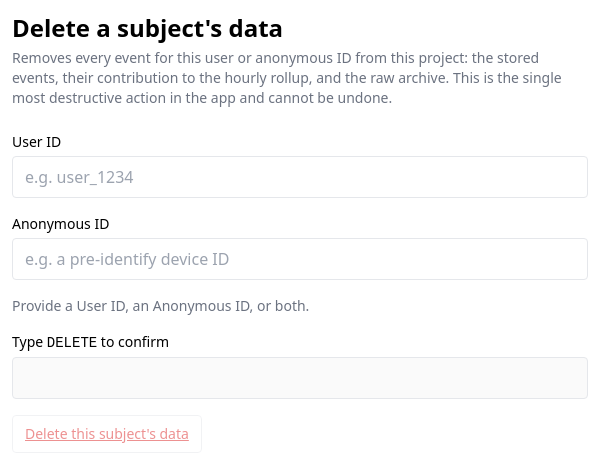
Test: SubjectDeletion › an anonymous ID alone is also a valid identifier
Type "anon-1" into the field labelled "Anonymous ID" at (300, 259), box [12,238,588,280]
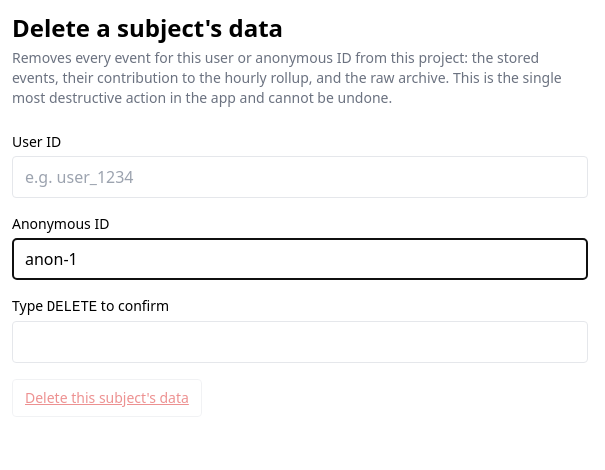
Type "DELETE" into the field labelled "Type DELETE to confirm" at (300, 342), box [12,321,588,363]
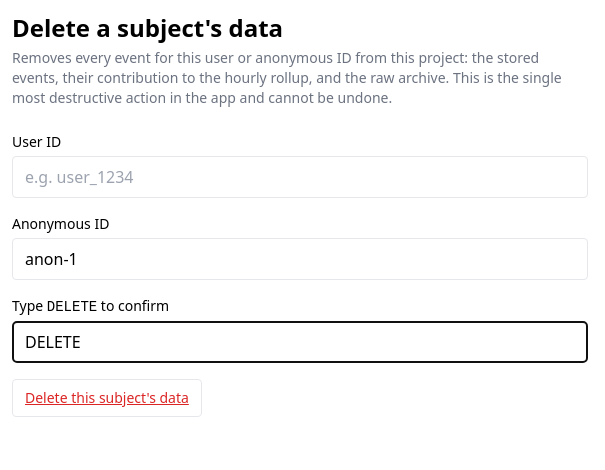
Expected: the button "Delete this subject's data" is enabled, [12,379,202,417]
